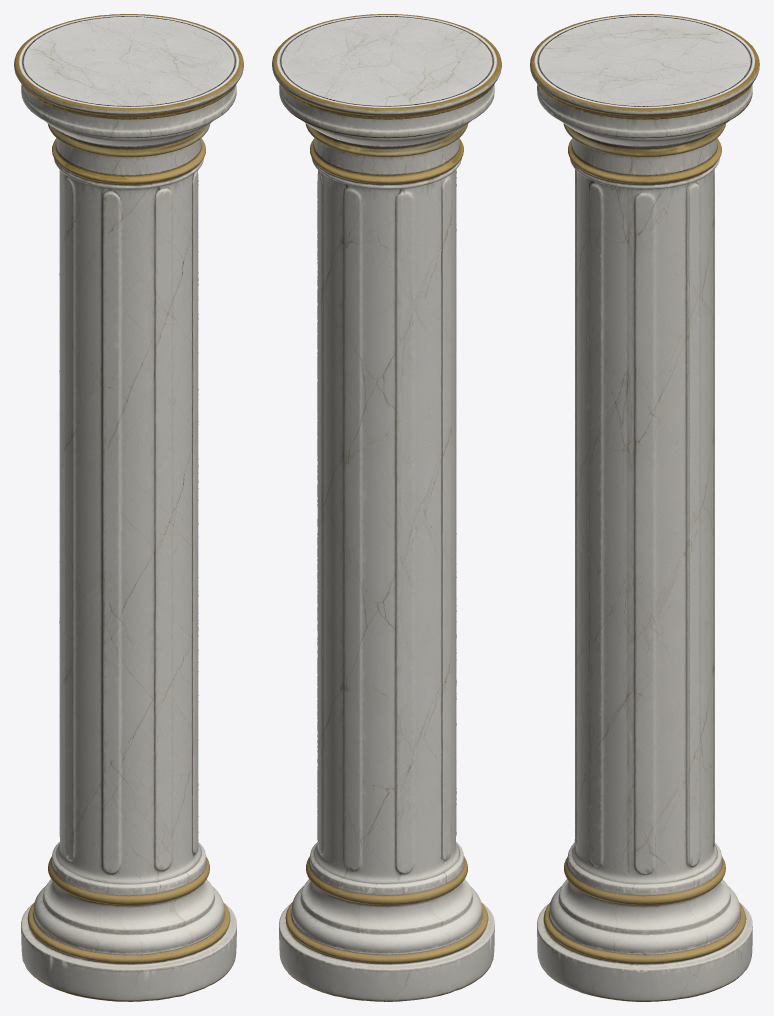
File: columna.glb
3 views of the same model, side by side, from view 1: azimuth 30°, elevation 25°; view 2: azimuth 150°, elevation 25°; view 3: azimuth 270°, elevation 25° (orthographic).
Size of the model in its own units: 0.4412 by 1.9 by 0.4409.
1 material, 1 textured.
